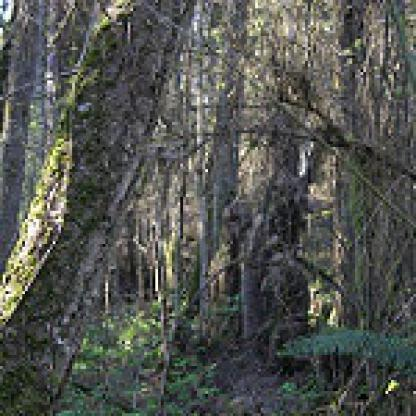trunk: (0, 0, 200, 413), (195, 0, 252, 319), (328, 0, 364, 333)
